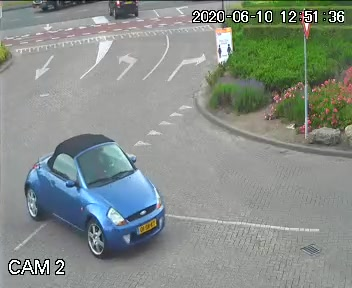car: (15, 125, 177, 258), (103, 0, 141, 25)
